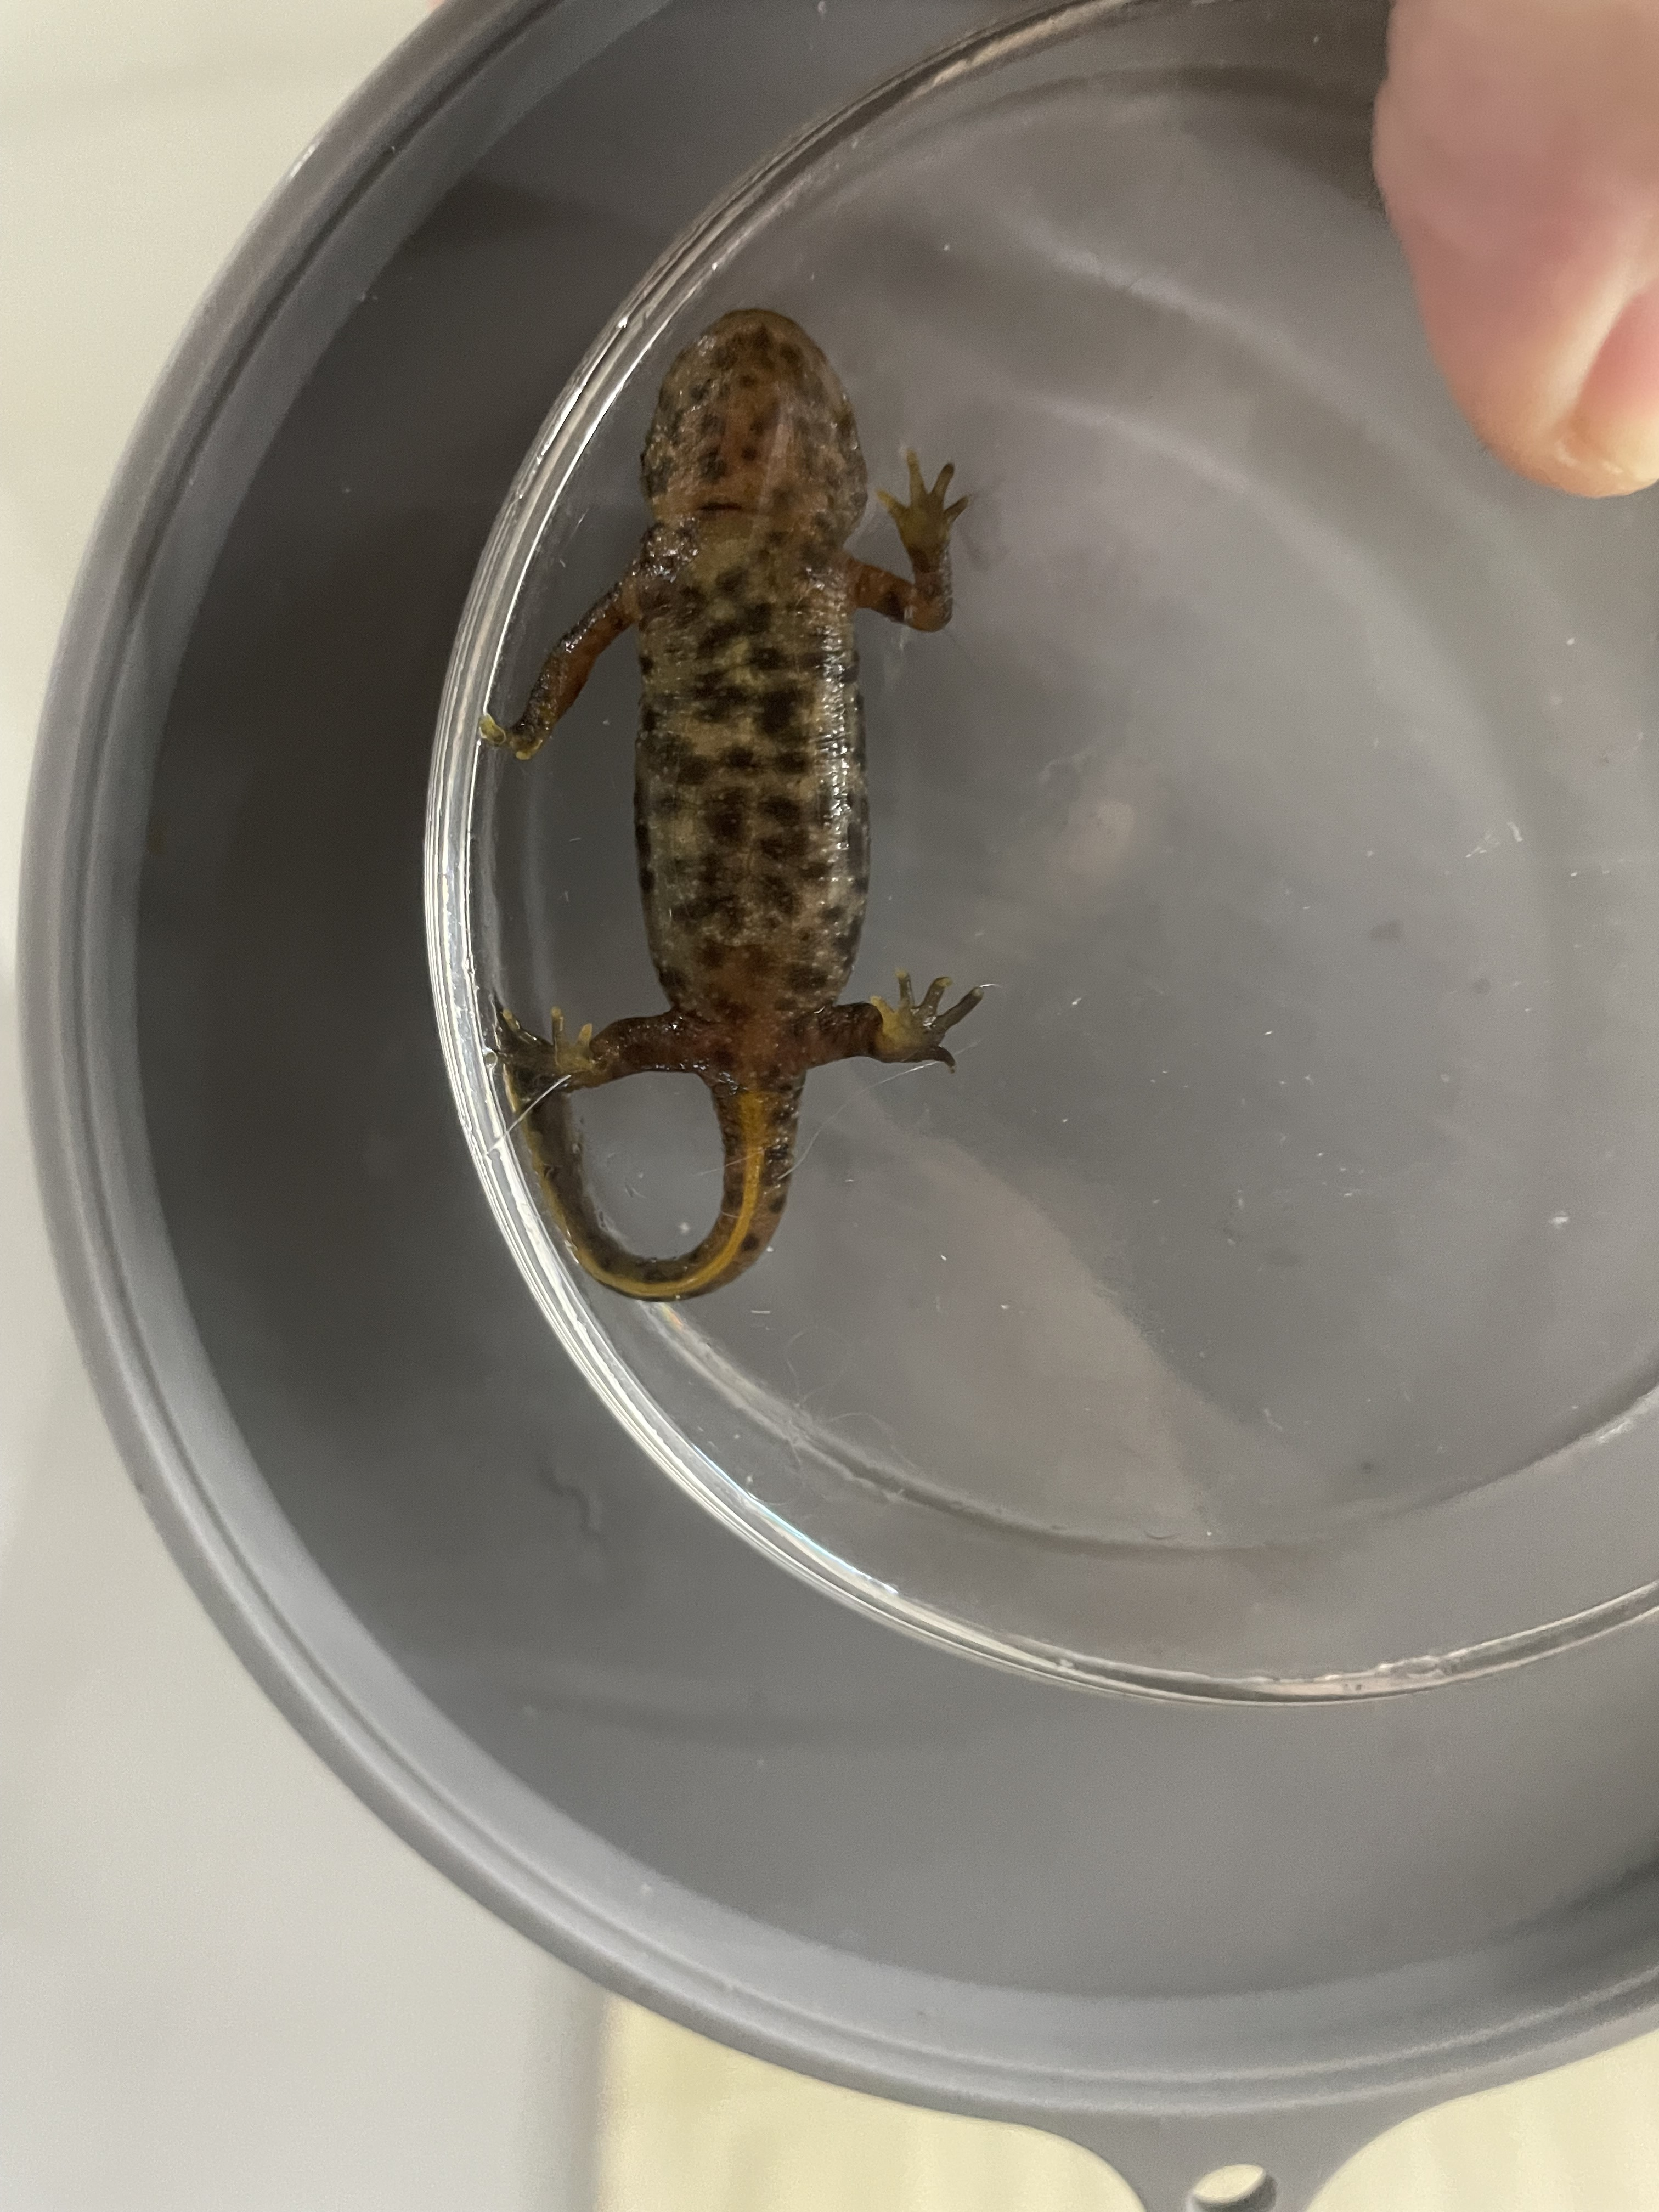newt_ribbed: (634, 611, 871, 1010)
